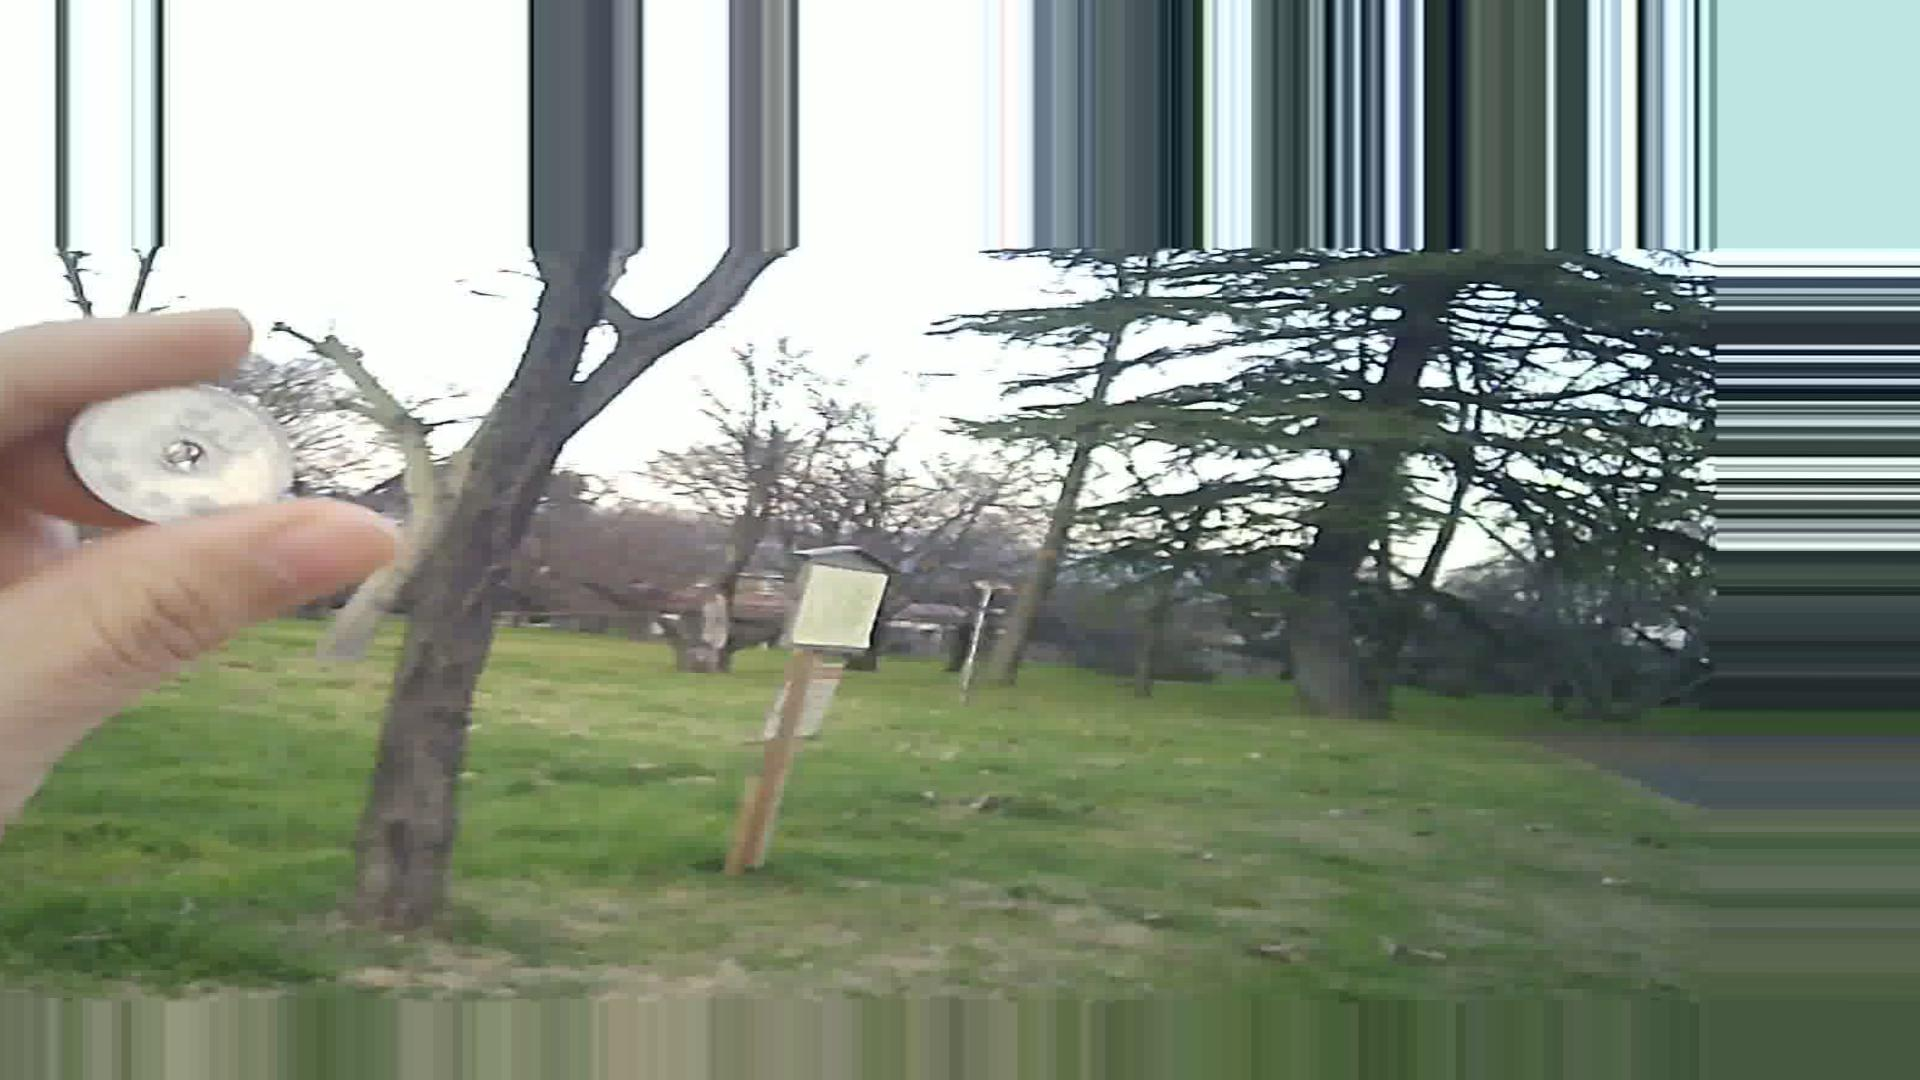50 Yen: (59, 353, 286, 524)
